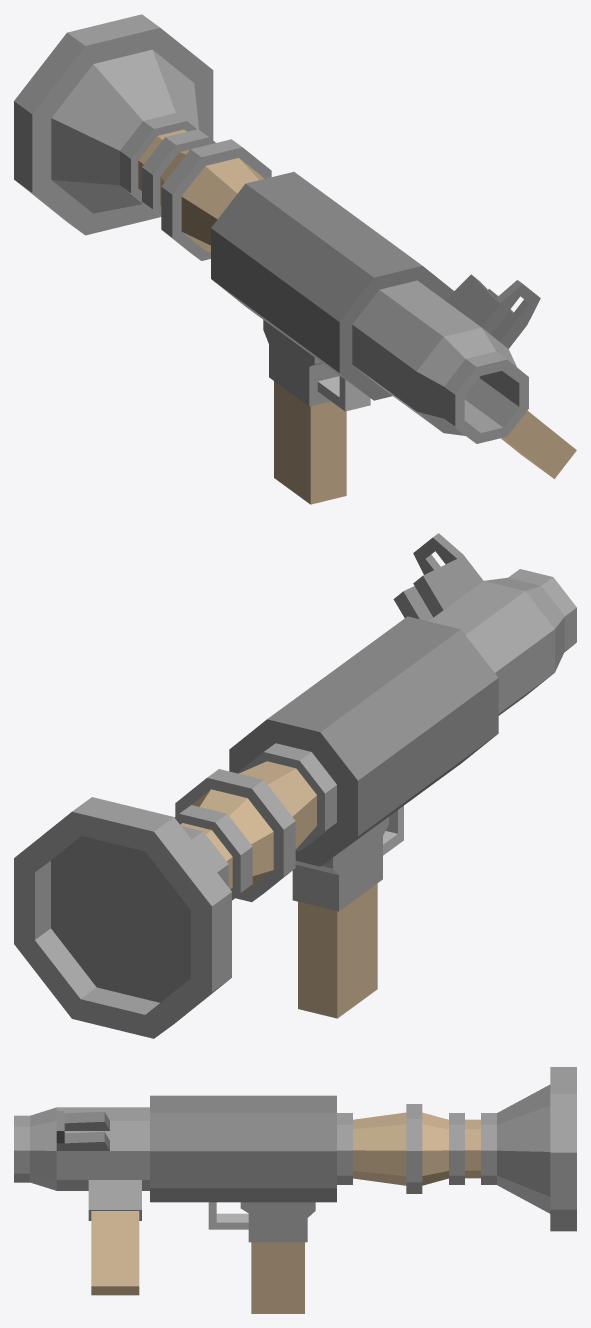
Rendered from RocketLauncher_Base.glb.
The picture shows the model from 3 angles, top to bottom: view 1: azimuth 30°, elevation 25°; view 2: azimuth 150°, elevation 25°; view 3: azimuth 270°, elevation 25°; orthographic projection. The views are drawn at different scales.
Visible parts, largest first — view 1: rocketlauncherSide.002; view 2: rocketlauncherSide.002; view 3: rocketlauncherSide.002.
Part boxes in pixels (x1=…): rocketlauncherSide.002: x1=14, y1=14, x2=576, y2=504; rocketlauncherSide.002: x1=14, y1=533, x2=576, y2=1038; rocketlauncherSide.002: x1=14, y1=1067, x2=576, y2=1313.
Bounding box in the file's own units: 0.4076 × 0.5326 × 1.2.
